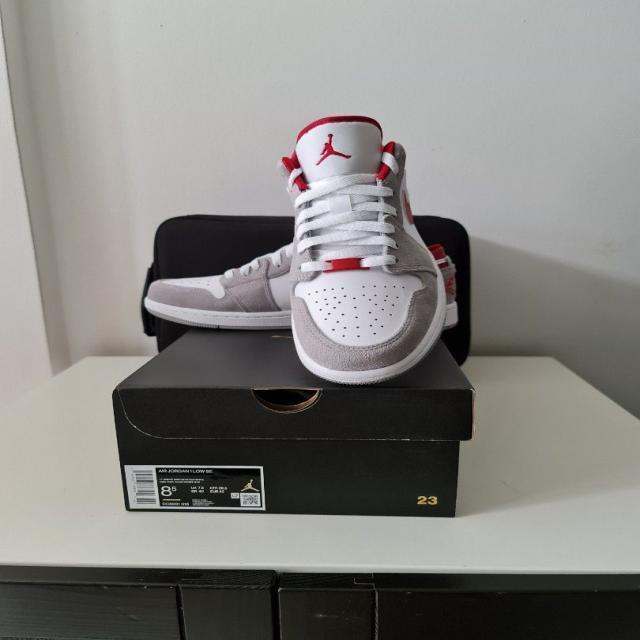nike original jordan 1: (274, 118, 450, 390)
